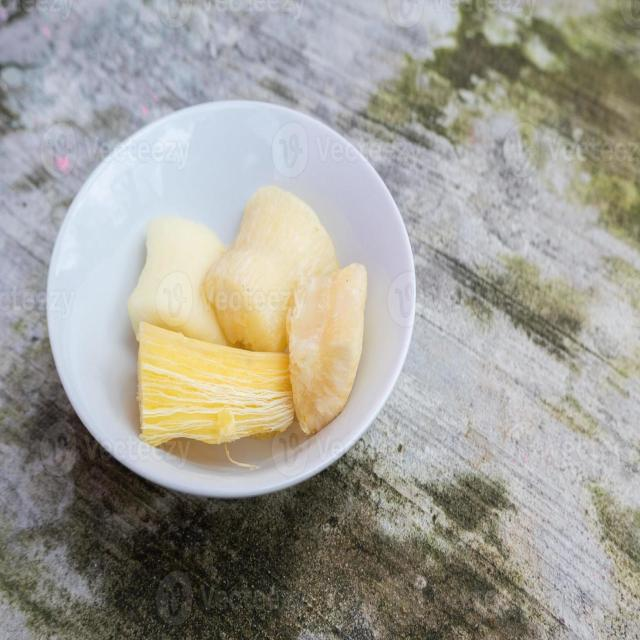yuca: (208, 186, 376, 456), (128, 321, 296, 475), (127, 220, 242, 345)
